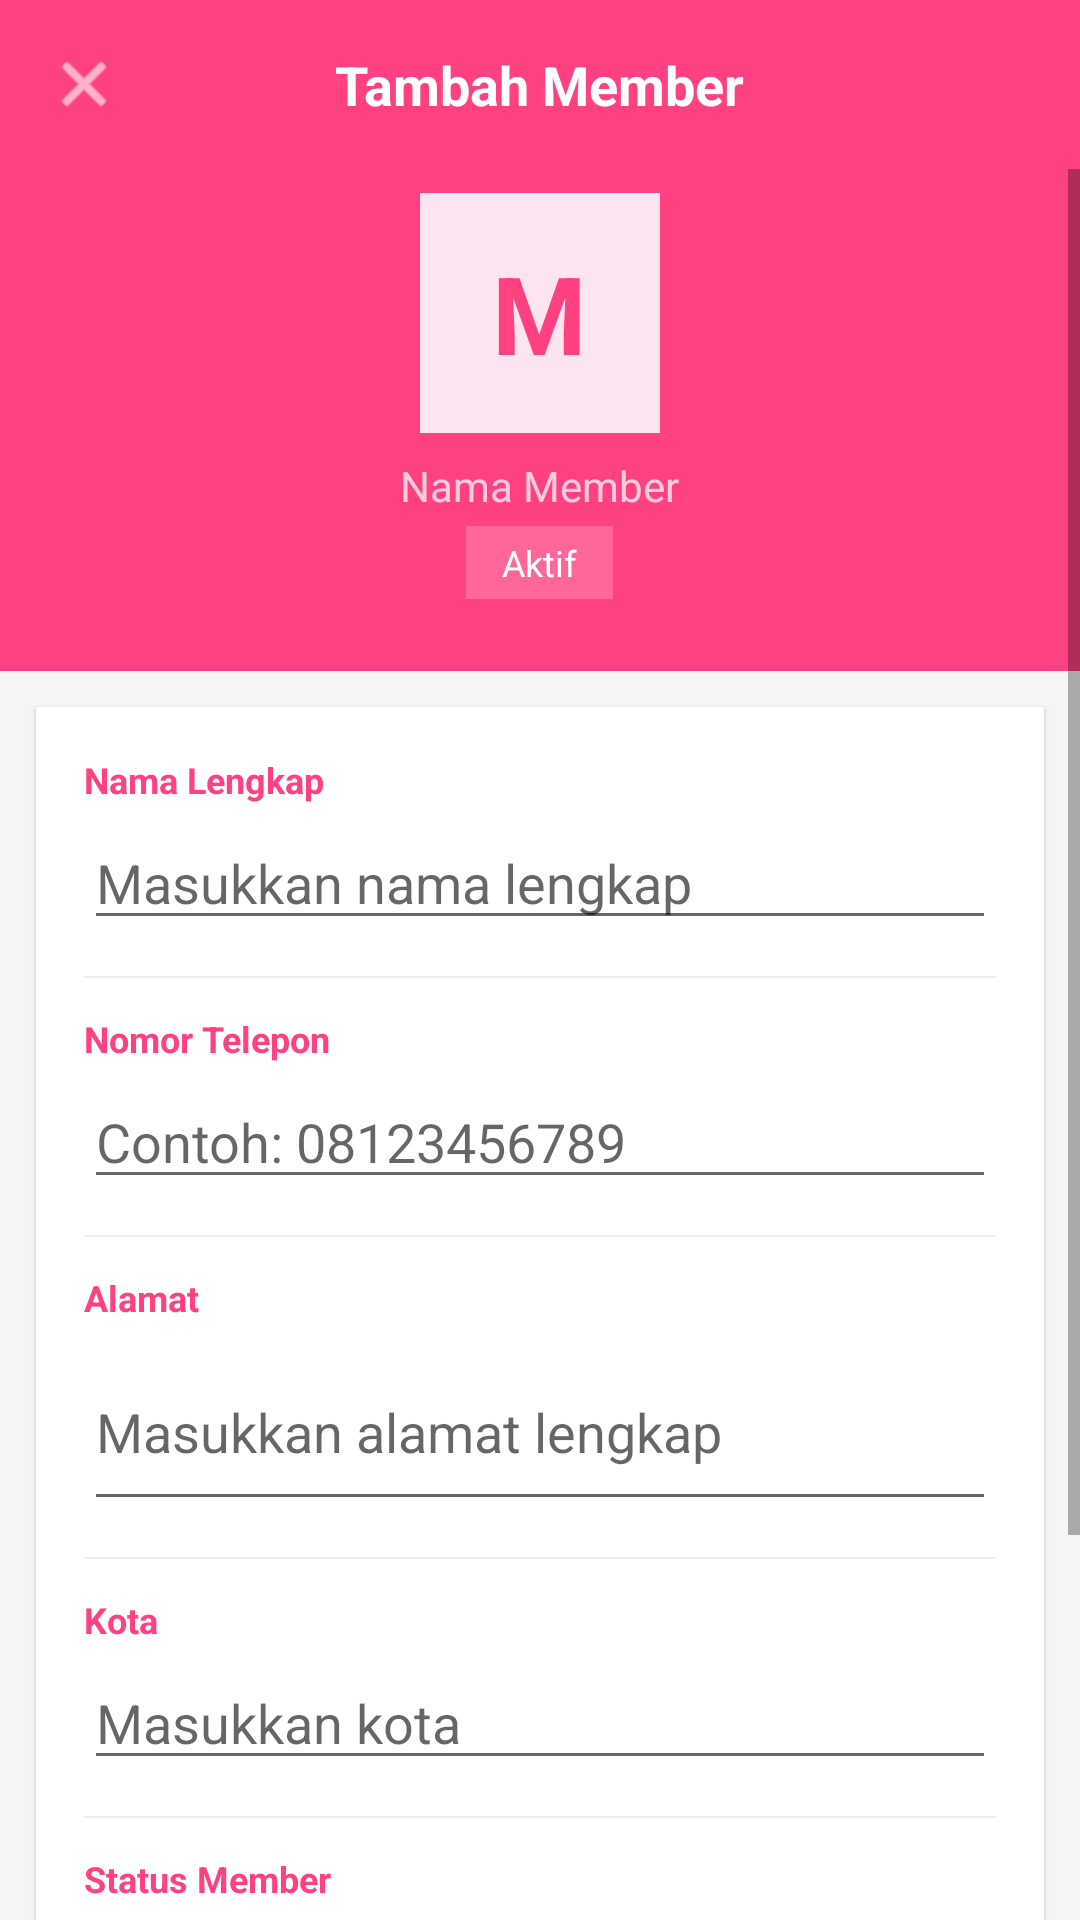

Icon bounding boxes for this 1080x1920 phone screenshot, format bbox=(x1, y1, x2, y2):
close clear cancel: bbox=(62, 62, 106, 106)
